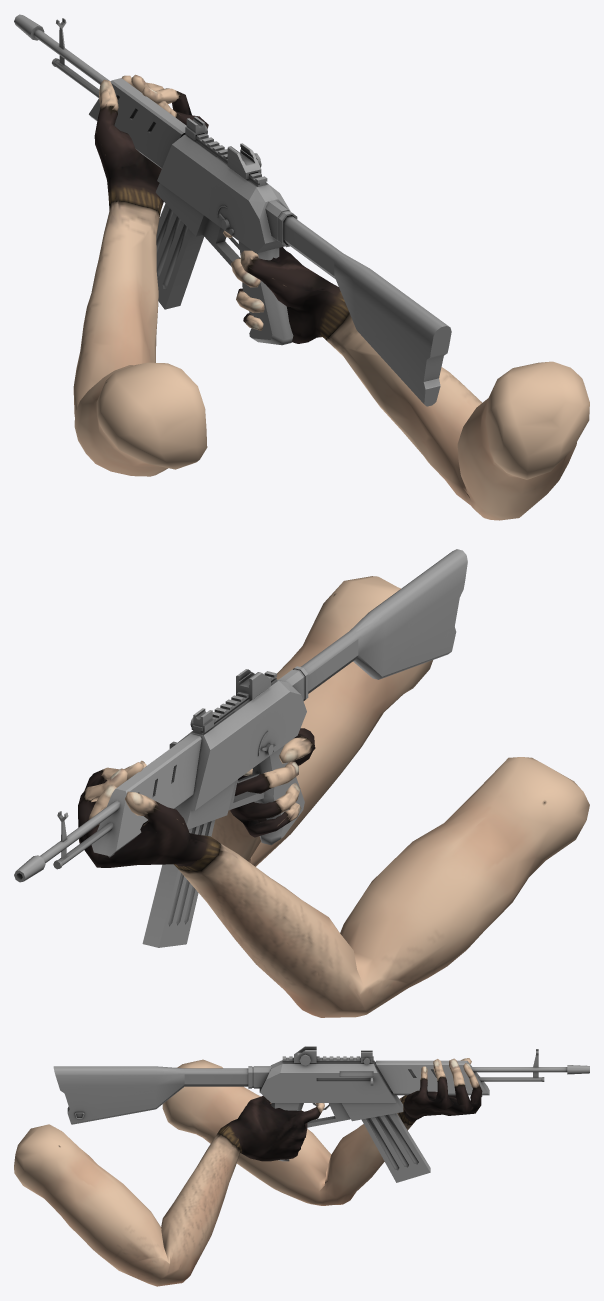
Rendered from completeGunModel.obj.
3 renders of one model, top to bottom at view 1: azimuth 30°, elevation 25°; view 2: azimuth 150°, elevation 25°; view 3: azimuth 270°, elevation 25°, orthographic. The views are drawn at different scales.
Size of the model in its own units: 0.5437 by 0.4032 by 1.07.
